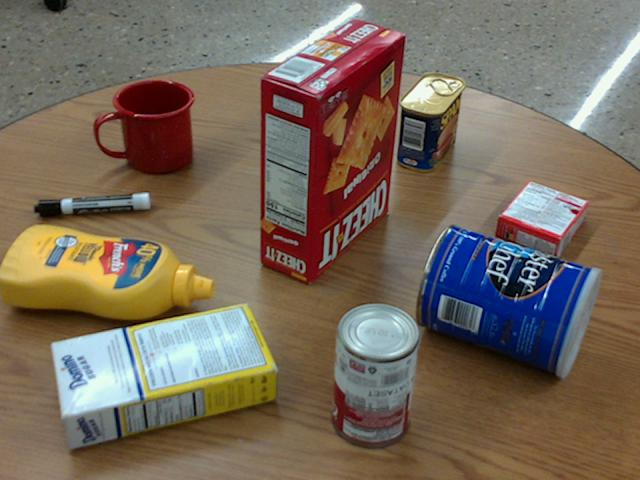cracker_box: (259, 18, 405, 282)
gelatin_box: (495, 179, 587, 256)
large_marker: (35, 192, 150, 216)
master_chef_can: (417, 222, 603, 376)
mug: (96, 80, 194, 174)
mustard_bottle: (0, 223, 214, 320)
potted_meat_can: (398, 72, 464, 172)
sugar_box: (48, 302, 275, 447)
tomato_soup_can: (334, 301, 421, 446)
tuna_fish_can: (271, 72, 333, 146)
